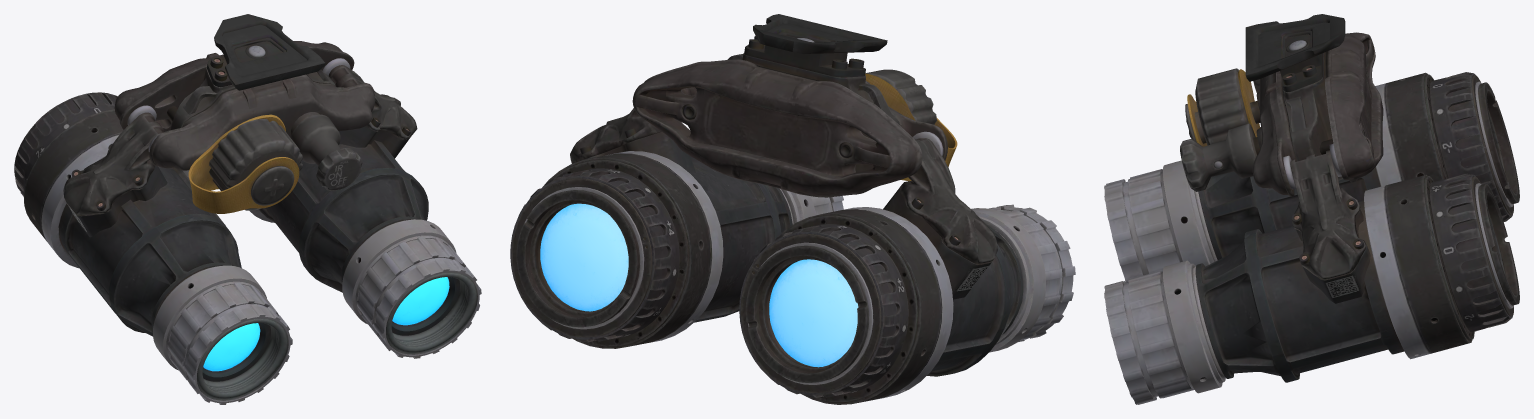
The model's file is binocular.glb.
3 views of the same model, side by side, from view 1: azimuth 30°, elevation 25°; view 2: azimuth 150°, elevation 25°; view 3: azimuth 270°, elevation 25° (orthographic). The views are drawn at different scales.
Parts seen in each view (by area): view 1: Object_10, Object_64; view 2: Object_10, Object_64; view 3: Object_10.
Part boxes in pixels (<box>): Object_10: <box>14,14,481,404</box>; Object_64: <box>203,277,449,371</box>; Object_10: <box>510,14,1075,404</box>; Object_64: <box>540,203,858,367</box>; Object_10: <box>1104,14,1519,404</box>.
Size of the model in its own units: 5.85 by 4.86 by 5.66.
2 materials, 2 textured.
